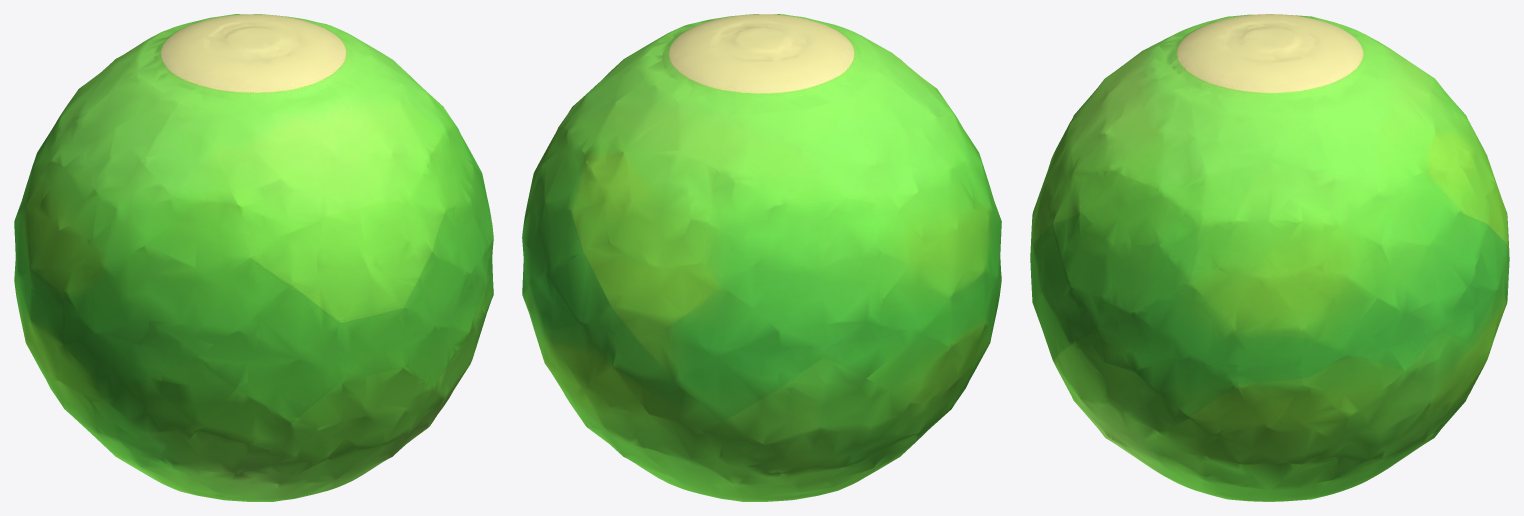
Rendered from planete.glb.
The picture shows the model from 3 angles, left to right: view 1: azimuth 30°, elevation 25°; view 2: azimuth 150°, elevation 25°; view 3: azimuth 270°, elevation 25°; orthographic projection.
Parts seen in each view (by area): view 1: mesh_node; view 2: mesh_node; view 3: mesh_node.
Part boxes in pixels (<box>): mesh_node: <box>14,14,493,501</box>; mesh_node: <box>522,14,1001,501</box>; mesh_node: <box>1030,14,1509,501</box>.
Bounding box in the file's own units: 1.88 × 1.9 × 1.88.
1 material, 1 textured.
